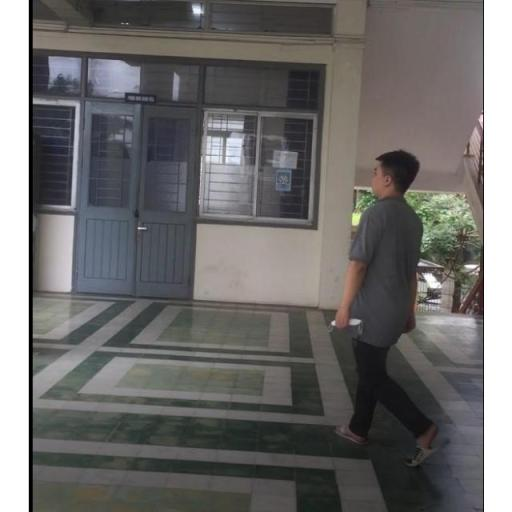Running: (322, 142, 448, 466)
